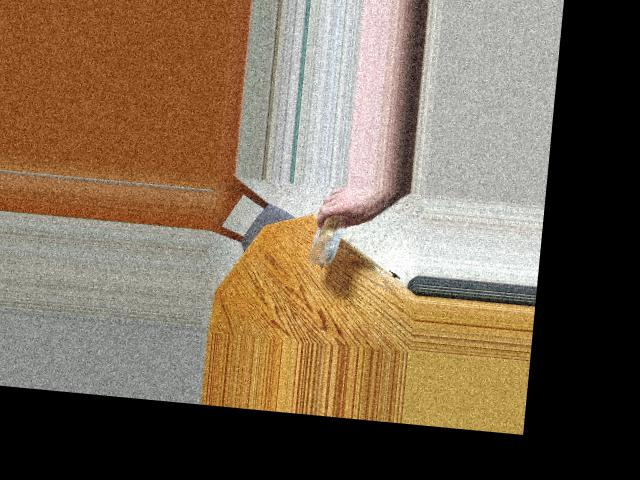cheese: (307, 213, 355, 263)
